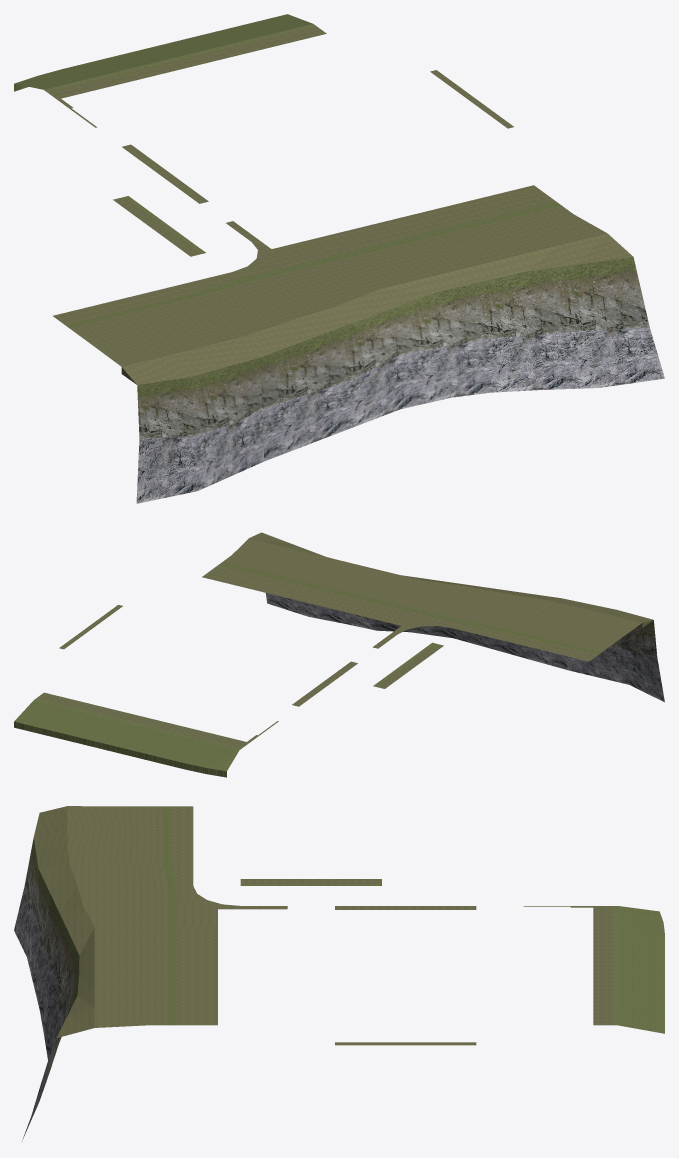
The model's file is vgsecoast08.obj.
The picture shows the model from 3 angles, top to bottom: view 1: azimuth 30°, elevation 25°; view 2: azimuth 150°, elevation 25°; view 3: azimuth 270°, elevation 25°; orthographic projection. The views are drawn at different scales.
Visible parts, largest first — view 1: vgsEcoast08; view 2: vgsEcoast08; view 3: vgsEcoast08.
Boxes of the visible parts, x1,y1,x2,y2 form: vgsEcoast08: (14, 14, 664, 503); vgsEcoast08: (14, 532, 664, 777); vgsEcoast08: (14, 806, 664, 1140).
Size of the model in its own units: 243 by 50.75 by 276.
7 materials, 7 textured.
